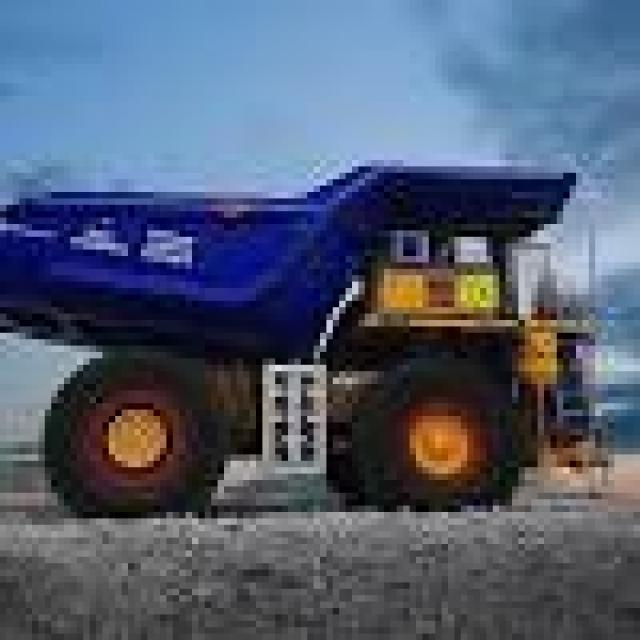dump_truck: (6, 96, 628, 576)
